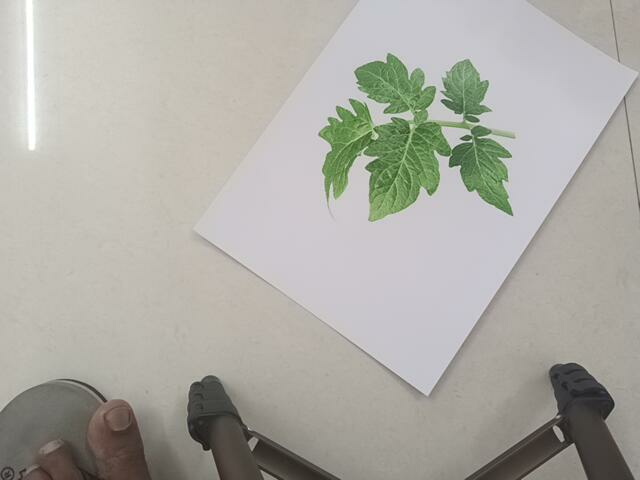Tomamto_Leaf_Healthy: (313, 58, 545, 226)
